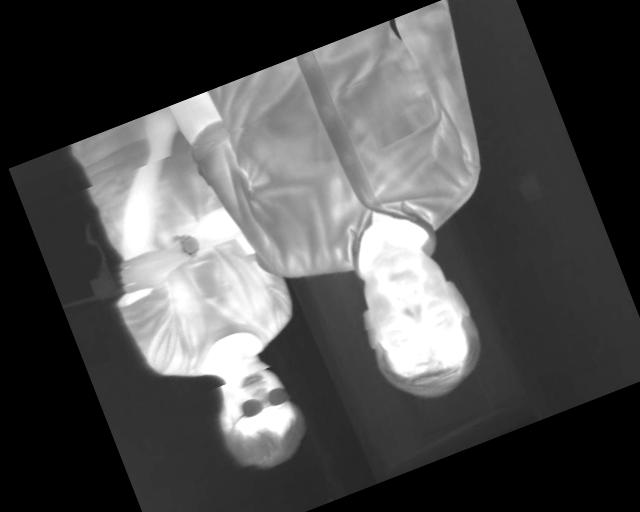face: (337, 225, 496, 415), (199, 345, 315, 480)
